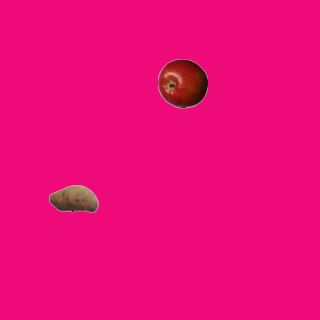Apple Braeburn: (157, 58, 207, 108)
Potato Sweet: (48, 173, 98, 223)
